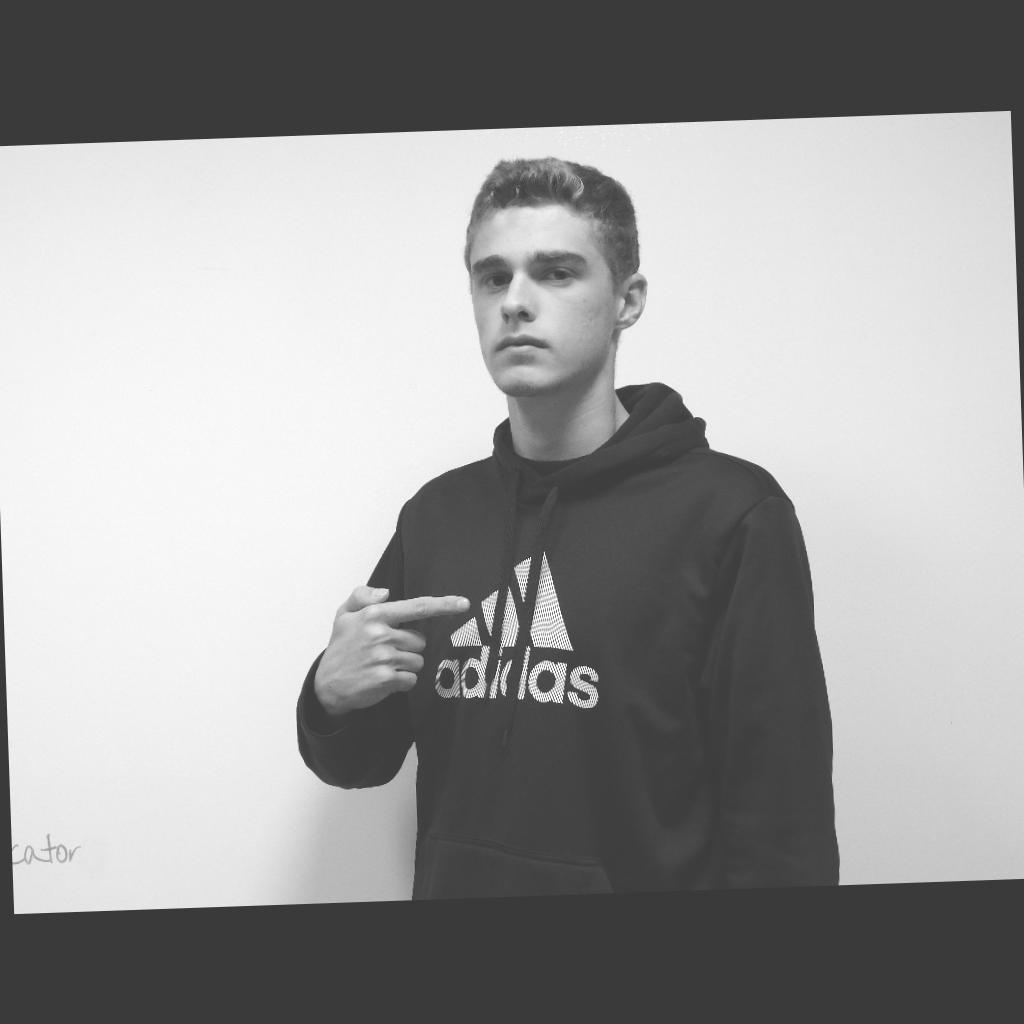I: (326, 580, 472, 708)
